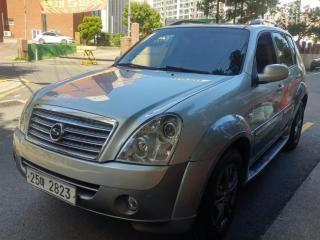2: (58, 184, 65, 198), (48, 180, 54, 193), (29, 172, 35, 184)
3: (65, 187, 72, 200)
5: (35, 174, 40, 186)
8: (54, 182, 59, 195)
마: (40, 177, 46, 190)
